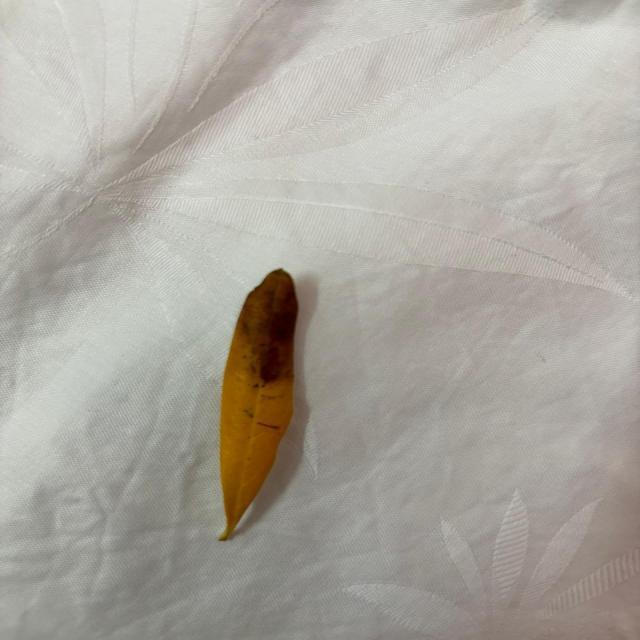OlivePeacockSpot: (219, 268, 298, 540)
